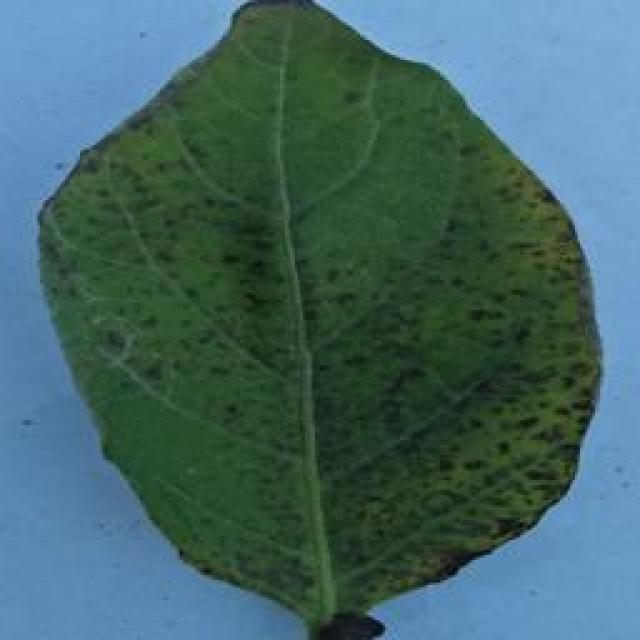Potato_Early_Blight: (25, 0, 608, 615)
